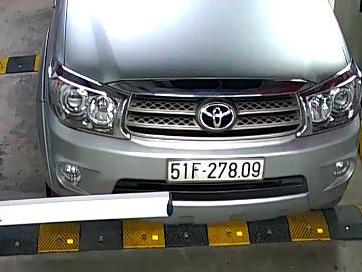number: (167, 156, 265, 184)
